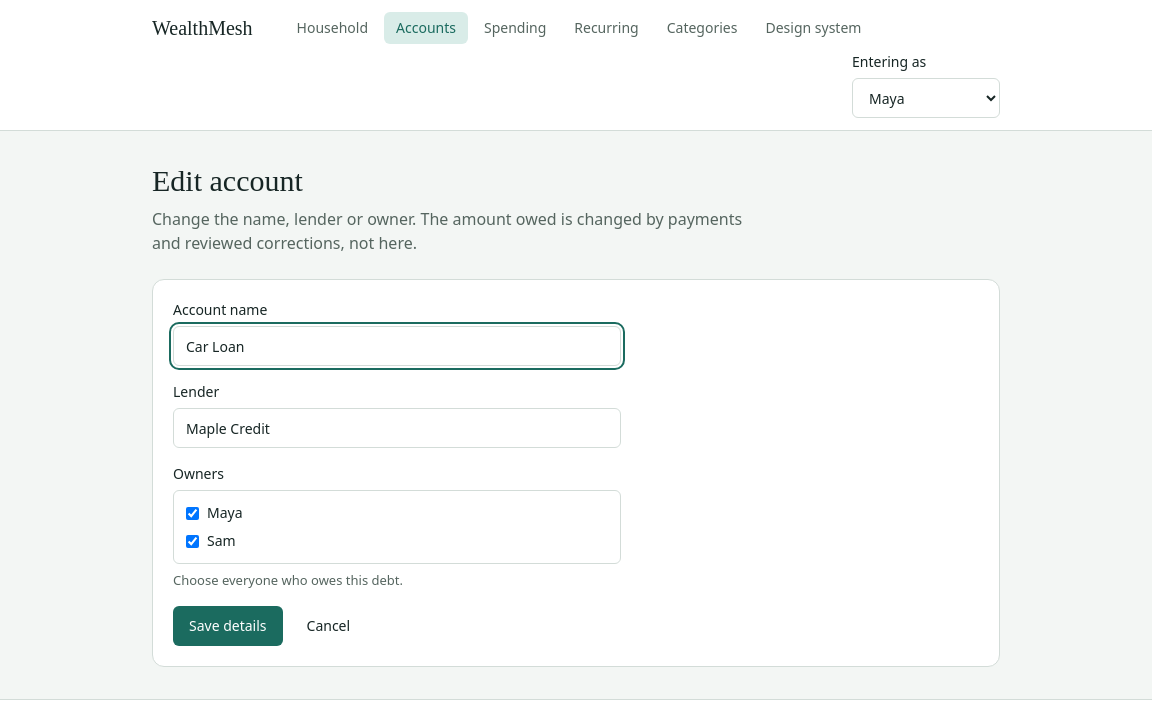
it: a loan on its pages › V2_LOAN_001 editing the name keeps lender, owners, balance and date; the form says Lender
The width and height of the screenshot is (1152, 718).
Expected: the field labelled "Lender" holds "Maple Credit", [173,408,621,448]
Step 1. Replace the text in the field labelled "Account name" with "Blue Car Loan" → coordinates (397, 346), box [173,326,621,366]
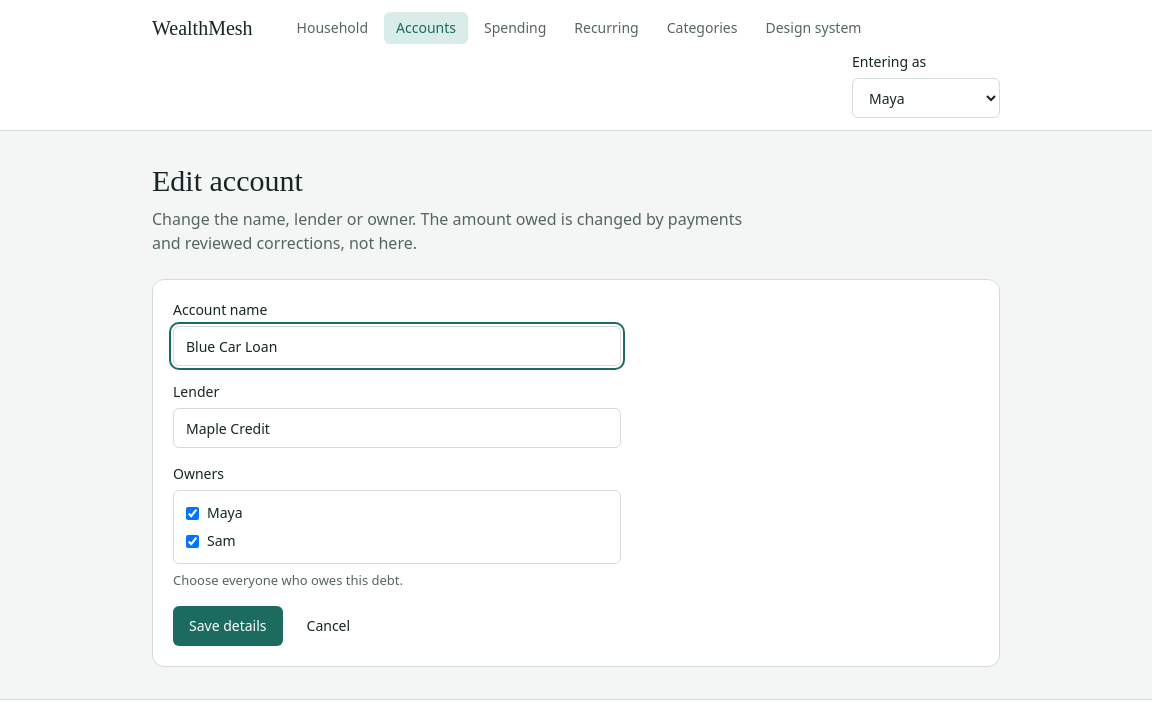
Step 2. Click the button "Save details" → coordinates (228, 626), box [173,606,282,646]
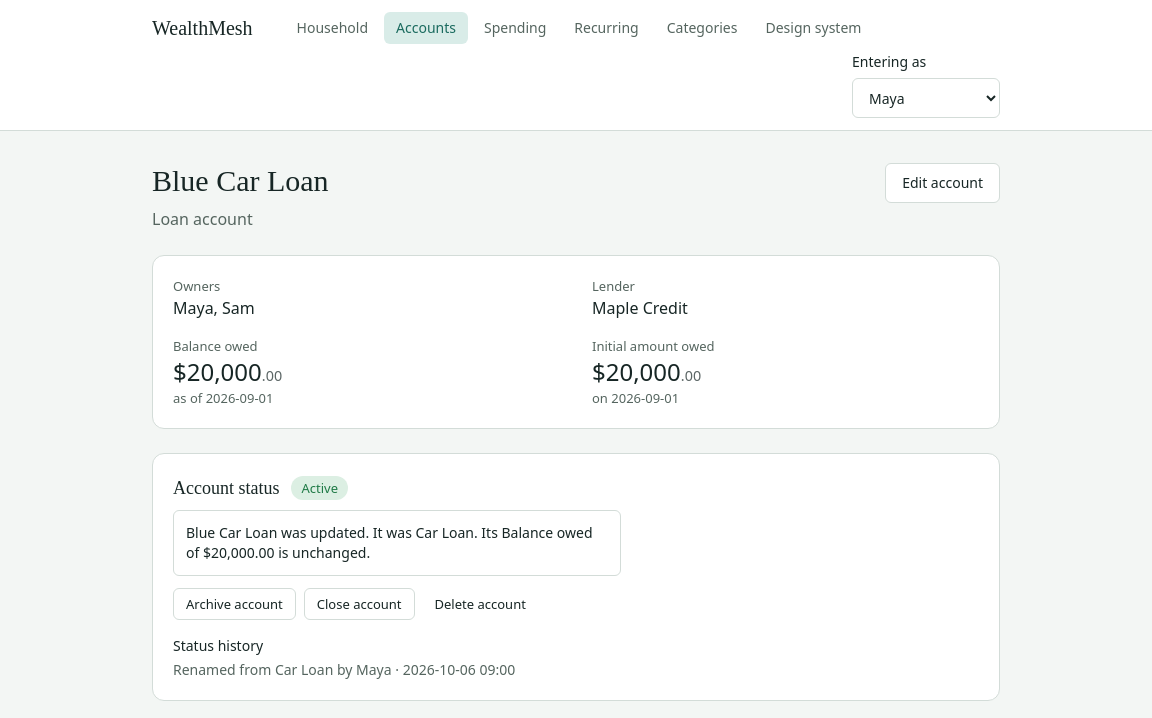
Now the heading "Blue Car Loan" is shown, box [152,163,329,199]
